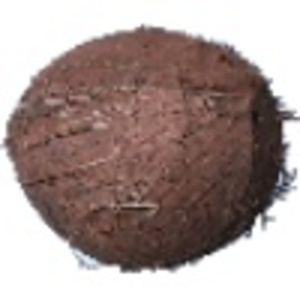coco: (1, 28, 300, 272)
